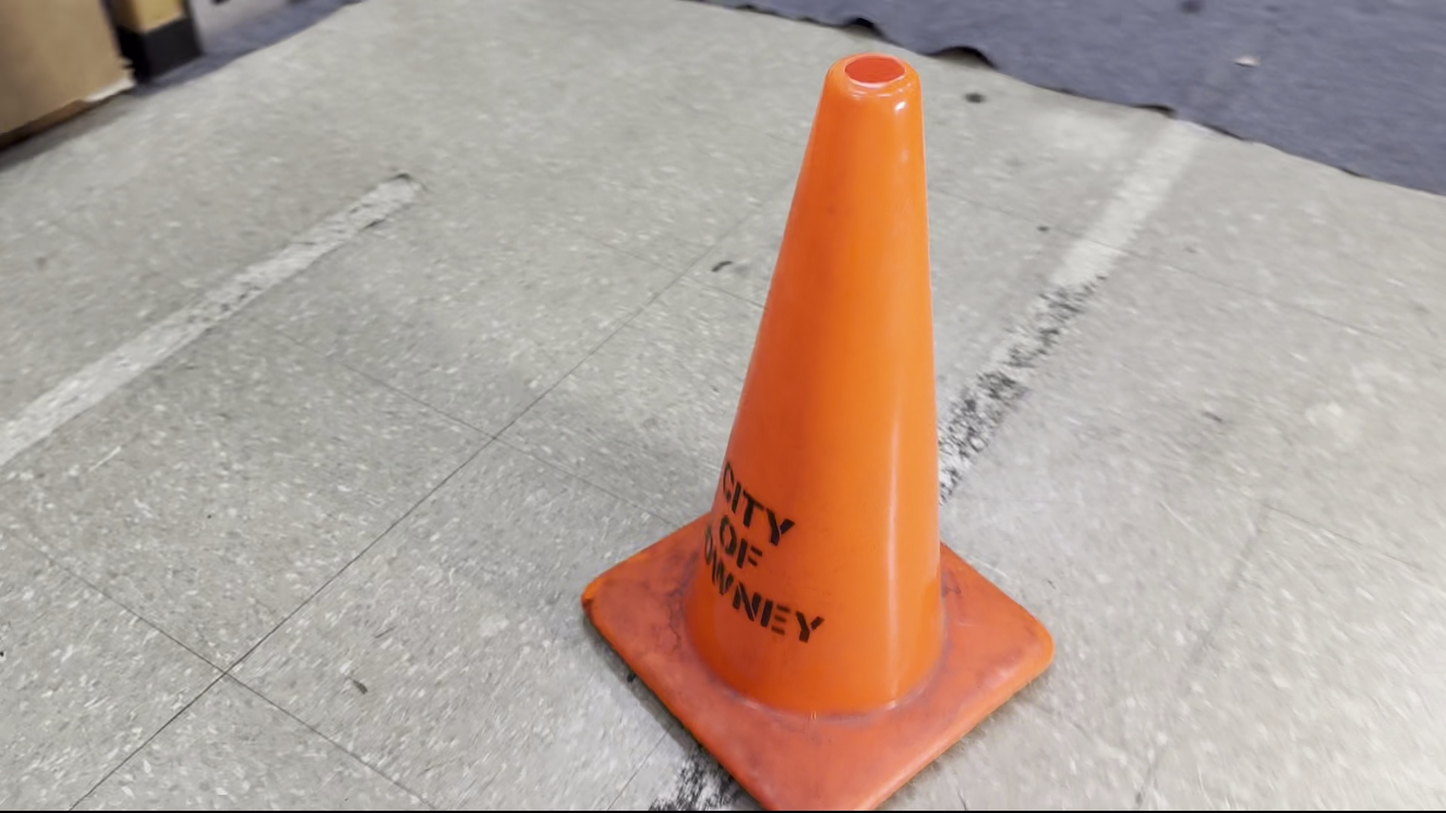traffic_cone: (580, 51, 1056, 811)
